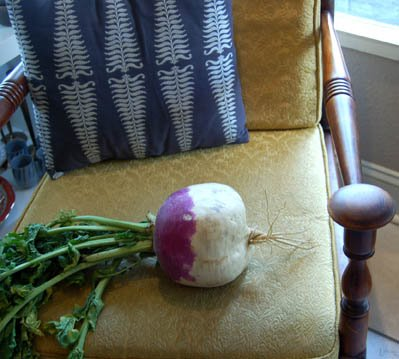turnip: (0, 173, 265, 334)
